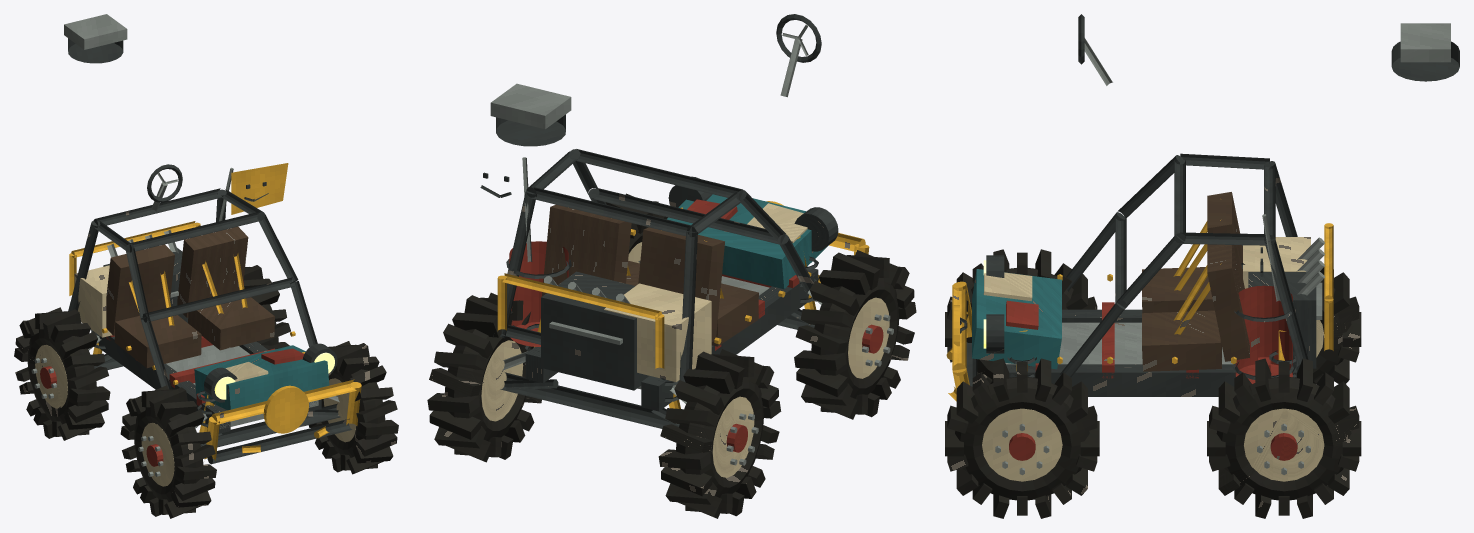
File: vehicle_scout_buggy_a_quality_v2_lod0.glb
3 renders of one model, left to right at view 1: azimuth 30°, elevation 25°; view 2: azimuth 150°, elevation 25°; view 3: azimuth 270°, elevation 25°, orthographic. The views are drawn at different scales.
Visible parts, largest first — view 1: wheel_front_left, wheel_rear_left, wheel_front_right, passenger_seat_back, sloped_nose, driver_seat_back, passenger_seat_cushion, driver_seat_cushion, wheel_front_left_tire, survivor_flag, wheel_rear_left_tire, left_chassis_rail (+29 smaller); view 2: wheel_front_left, wheel_rear_left, wheel_rear_right, rear_engine_block, passenger_seat_back, rear_luggage_crate, driver_seat_back, sloped_nose, left_chassis_rail, wheel_front_left_tire, wheel_rear_left_tire, rear_axle (+24 smaller); view 3: wheel_front_right, wheel_rear_right, wheel_rear_right_tire, wheel_front_right_tire, sloped_nose, right_chassis_rail, passenger_seat_cushion, wheel_rear_right_rim, wheel_front_right_rim, passenger_seat_back, rear_fuel_drum, belly_skid (+30 smaller).
Boxes of the visible parts, bbox=[...] form: wheel_front_left: bbox=[120, 385, 216, 518]; wheel_rear_left: bbox=[14, 307, 110, 440]; wheel_front_right: bbox=[308, 341, 398, 474]; passenger_seat_back: bbox=[177, 226, 248, 317]; sloped_nose: bbox=[194, 345, 329, 410]; driver_seat_back: bbox=[106, 244, 174, 335]; passenger_seat_cushion: bbox=[188, 297, 274, 350]; driver_seat_cushion: bbox=[114, 315, 201, 368]; wheel_front_left_tire: bbox=[134, 407, 203, 502]; survivor_flag: bbox=[231, 163, 288, 214]; wheel_rear_left_tire: bbox=[27, 329, 96, 424]; left_chassis_rail: bbox=[91, 331, 230, 433]; wheel_front_left: bbox=[794, 250, 916, 419]; wheel_rear_left: bbox=[658, 349, 781, 518]; wheel_rear_right: bbox=[427, 292, 541, 462]; rear_engine_block: bbox=[541, 271, 649, 390]; passenger_seat_back: bbox=[542, 204, 631, 296]; rear_luggage_crate: bbox=[604, 283, 711, 382]; driver_seat_back: bbox=[638, 227, 724, 341]; sloped_nose: bbox=[667, 194, 827, 289]; left_chassis_rail: bbox=[641, 268, 818, 411]; wheel_front_left_tire: bbox=[811, 278, 899, 398]; wheel_rear_left_tire: bbox=[676, 377, 763, 497]; rear_axle: bbox=[500, 372, 678, 428]; wheel_front_right: bbox=[945, 358, 1099, 518]; wheel_rear_right: bbox=[1207, 358, 1361, 518]; wheel_rear_right_tire: bbox=[1216, 377, 1351, 500]; wheel_front_right_tire: bbox=[955, 377, 1089, 500]; sloped_nose: bbox=[972, 269, 1061, 369]; right_chassis_rail: bbox=[1006, 364, 1297, 396]; passenger_seat_cushion: bbox=[1142, 310, 1221, 371]; wheel_rear_right_rim: bbox=[1244, 408, 1324, 481]; wheel_front_right_rim: bbox=[982, 408, 1062, 481]; passenger_seat_back: bbox=[1207, 244, 1249, 361]; rear_fuel_drum: bbox=[1235, 285, 1292, 383]; belly_skid: bbox=[1005, 322, 1232, 364].
Size of the model in its own units: 1.87 by 2.59 by 2.87.
Materials: 9 (9 with a texture image).
